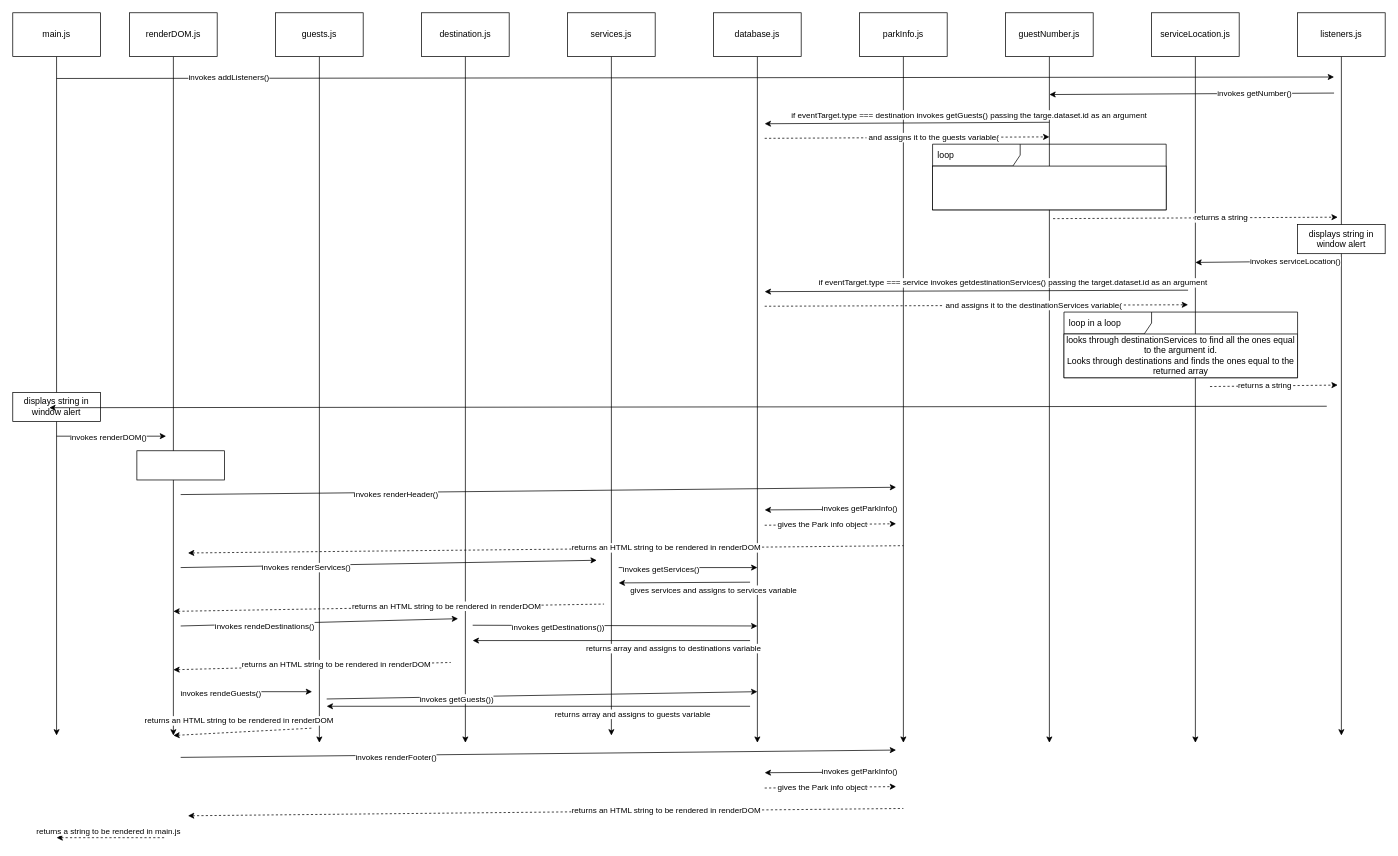
This 1398x856 diagram has some shape labels left out. The shapes that lost their labels are listed below. From the top down, each one's centre as x and y in pixels, then its label:
At pixel 1049 187: "filters guests to see which have an id equal to the number passed as an argument".
At pixel 180 465: "Creates a string to be rendered in main.".
